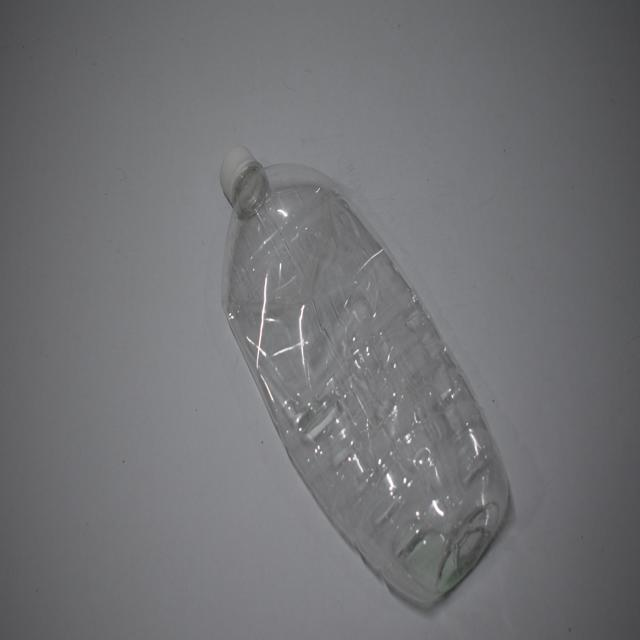bottle: (213, 141, 522, 605)
